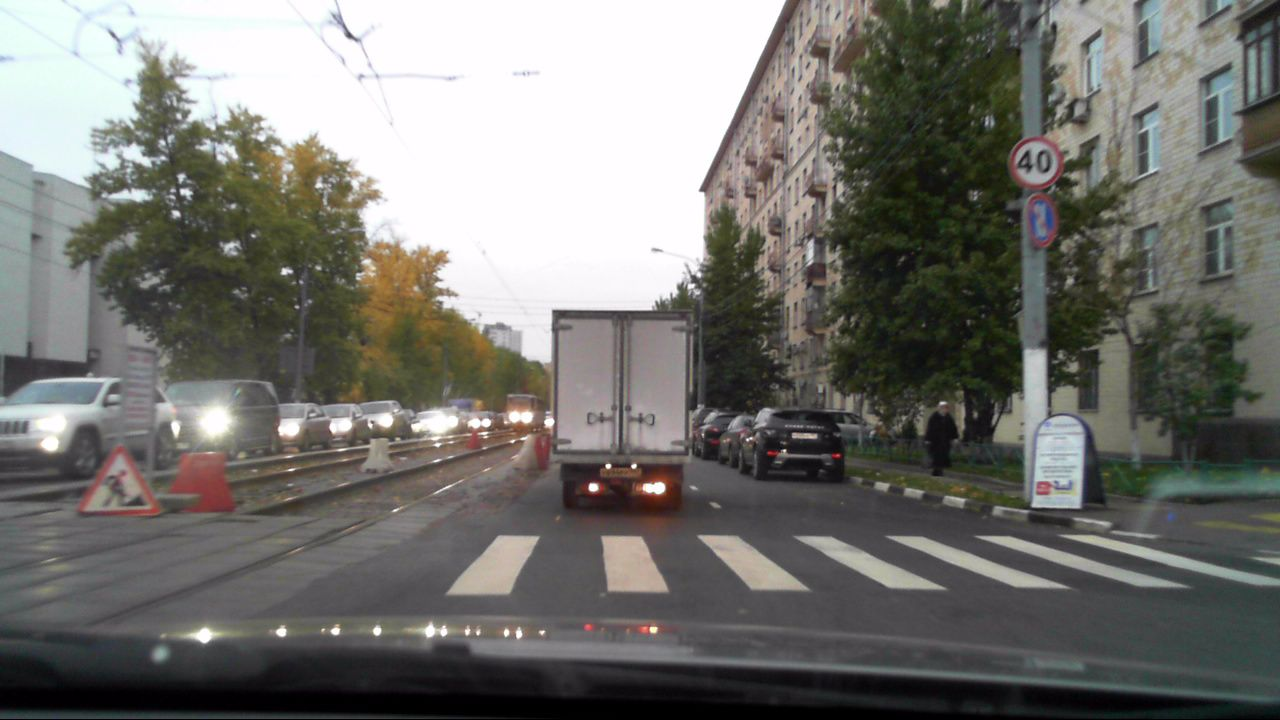speed_warning_40: (1010, 135, 1061, 185)
